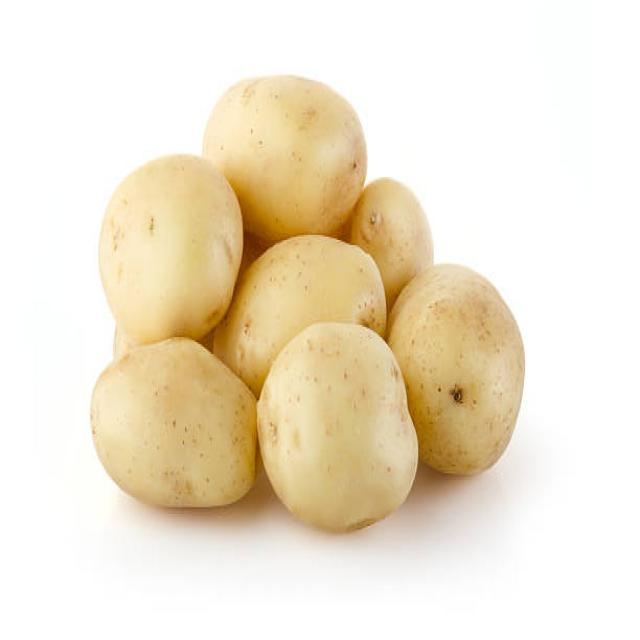potato: (262, 323, 412, 538), (399, 258, 523, 482), (90, 340, 258, 502), (99, 150, 234, 332), (235, 68, 362, 229), (235, 236, 384, 345), (363, 172, 441, 280)
